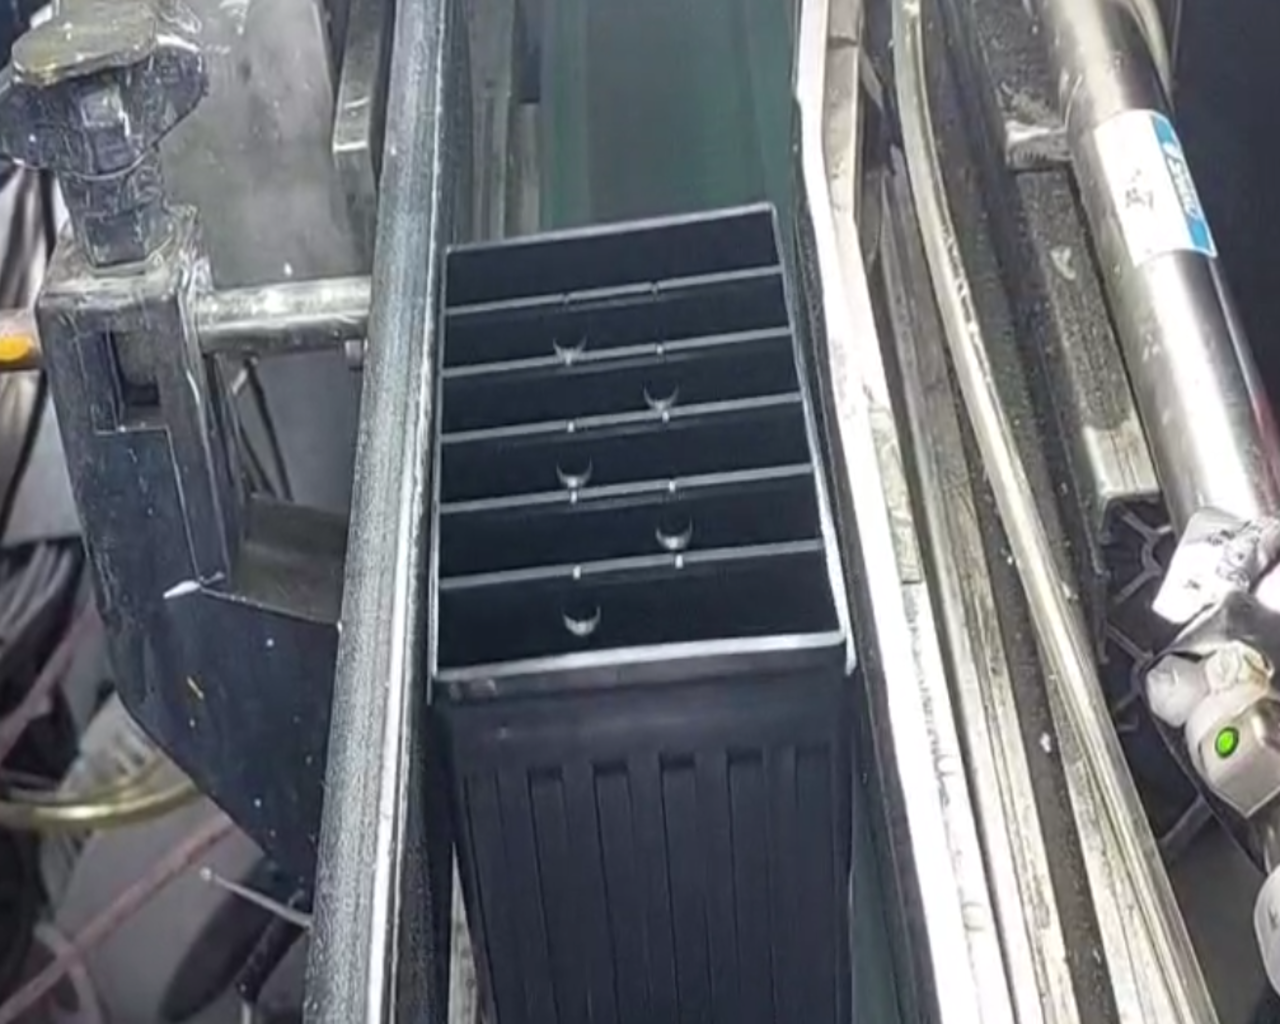box: (408, 184, 866, 723)
round: (540, 437, 608, 496), (641, 504, 709, 562), (630, 360, 691, 417), (535, 309, 598, 363), (549, 588, 612, 641)
